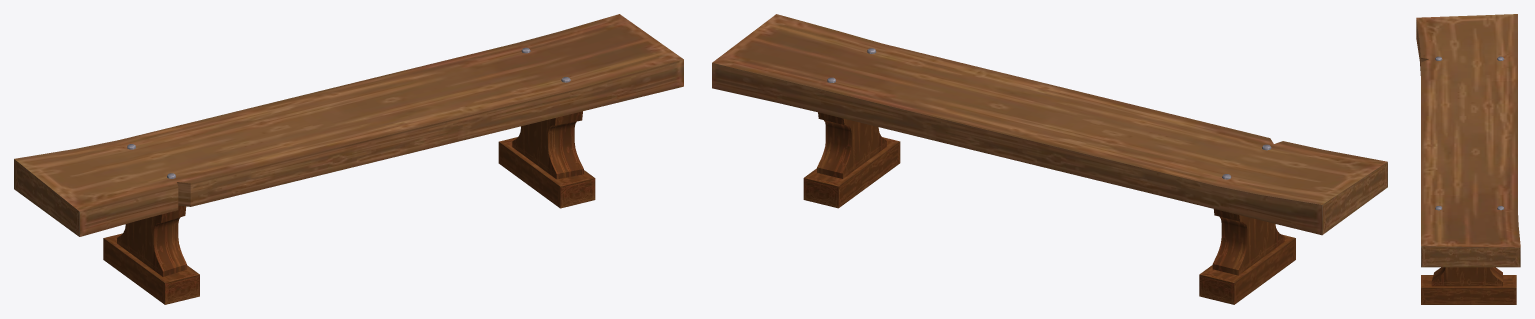
Rendered from Bench.glb.
The picture shows the model from 3 angles, left to right: view 1: azimuth 30°, elevation 25°; view 2: azimuth 150°, elevation 25°; view 3: azimuth 270°, elevation 25°; orthographic projection. The views are drawn at different scales.
Parts seen in each view (by area): view 1: Bench; view 2: Bench; view 3: Bench.
Boxes of the visible parts, left/top/right/bottom form: Bench: left=14, top=14, right=683, bottom=304; Bench: left=712, top=14, right=1387, bottom=304; Bench: left=1416, top=14, right=1520, bottom=304.
Bounding box in the file's own units: 2.78 × 0.5332 × 0.5342.
Materials: 2 (2 with a texture image).
